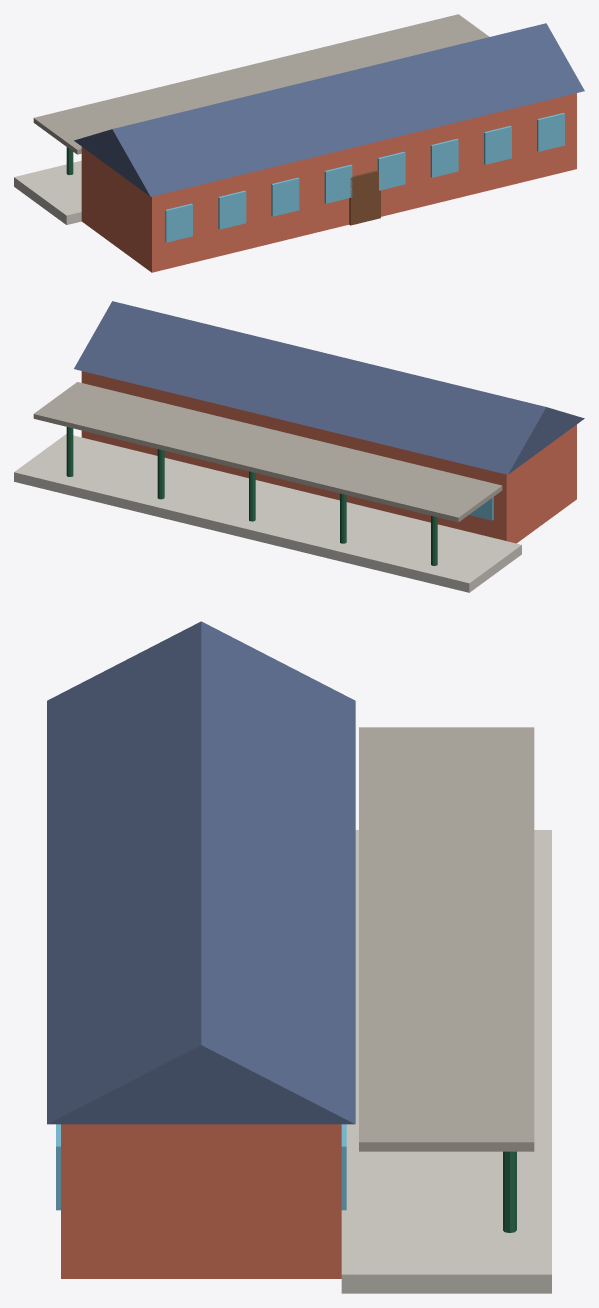
Rendered from train_station.glb.
The picture shows the model from 3 angles, top to bottom: view 1: azimuth 30°, elevation 25°; view 2: azimuth 150°, elevation 25°; view 3: azimuth 270°, elevation 25°; orthographic projection. The views are drawn at different scales.
Parts seen in each view (by area): view 1: train_station_roof_slate, train_station_brick, train_station_roof_flat, train_station_window, train_station_concrete, train_station_door; view 2: train_station_roof_slate, train_station_concrete, train_station_roof_flat, train_station_brick, train_station_pub_green; view 3: train_station_roof_slate, train_station_roof_flat, train_station_brick, train_station_concrete, train_station_pub_green, train_station_window.
Boxes of the visible parts, x1,y1,x2,y2 form: train_station_roof_slate: (74,23,584,196); train_station_brick: (81,93,576,272); train_station_roof_flat: (33,14,489,154); train_station_window: (165,113,564,242); train_station_concrete: (14,160,81,224); train_station_door: (349,170,380,225); train_station_roof_slate: (74,301,584,474); train_station_concrete: (14,434,521,592); train_station_roof_flat: (33,382,502,522); train_station_brick: (81,371,576,543); train_station_pub_green: (66,427,437,565); train_station_roof_slate: (47,621,355,1124); train_station_roof_flat: (359,727,534,1151); train_station_brick: (61,1124,341,1278); train_station_concrete: (341,830,551,1293); train_station_pub_green: (503,1151,516,1232); train_station_window: (56,1124,346,1210).
Size of the model in its own units: 30 by 7.5 by 14.4.
